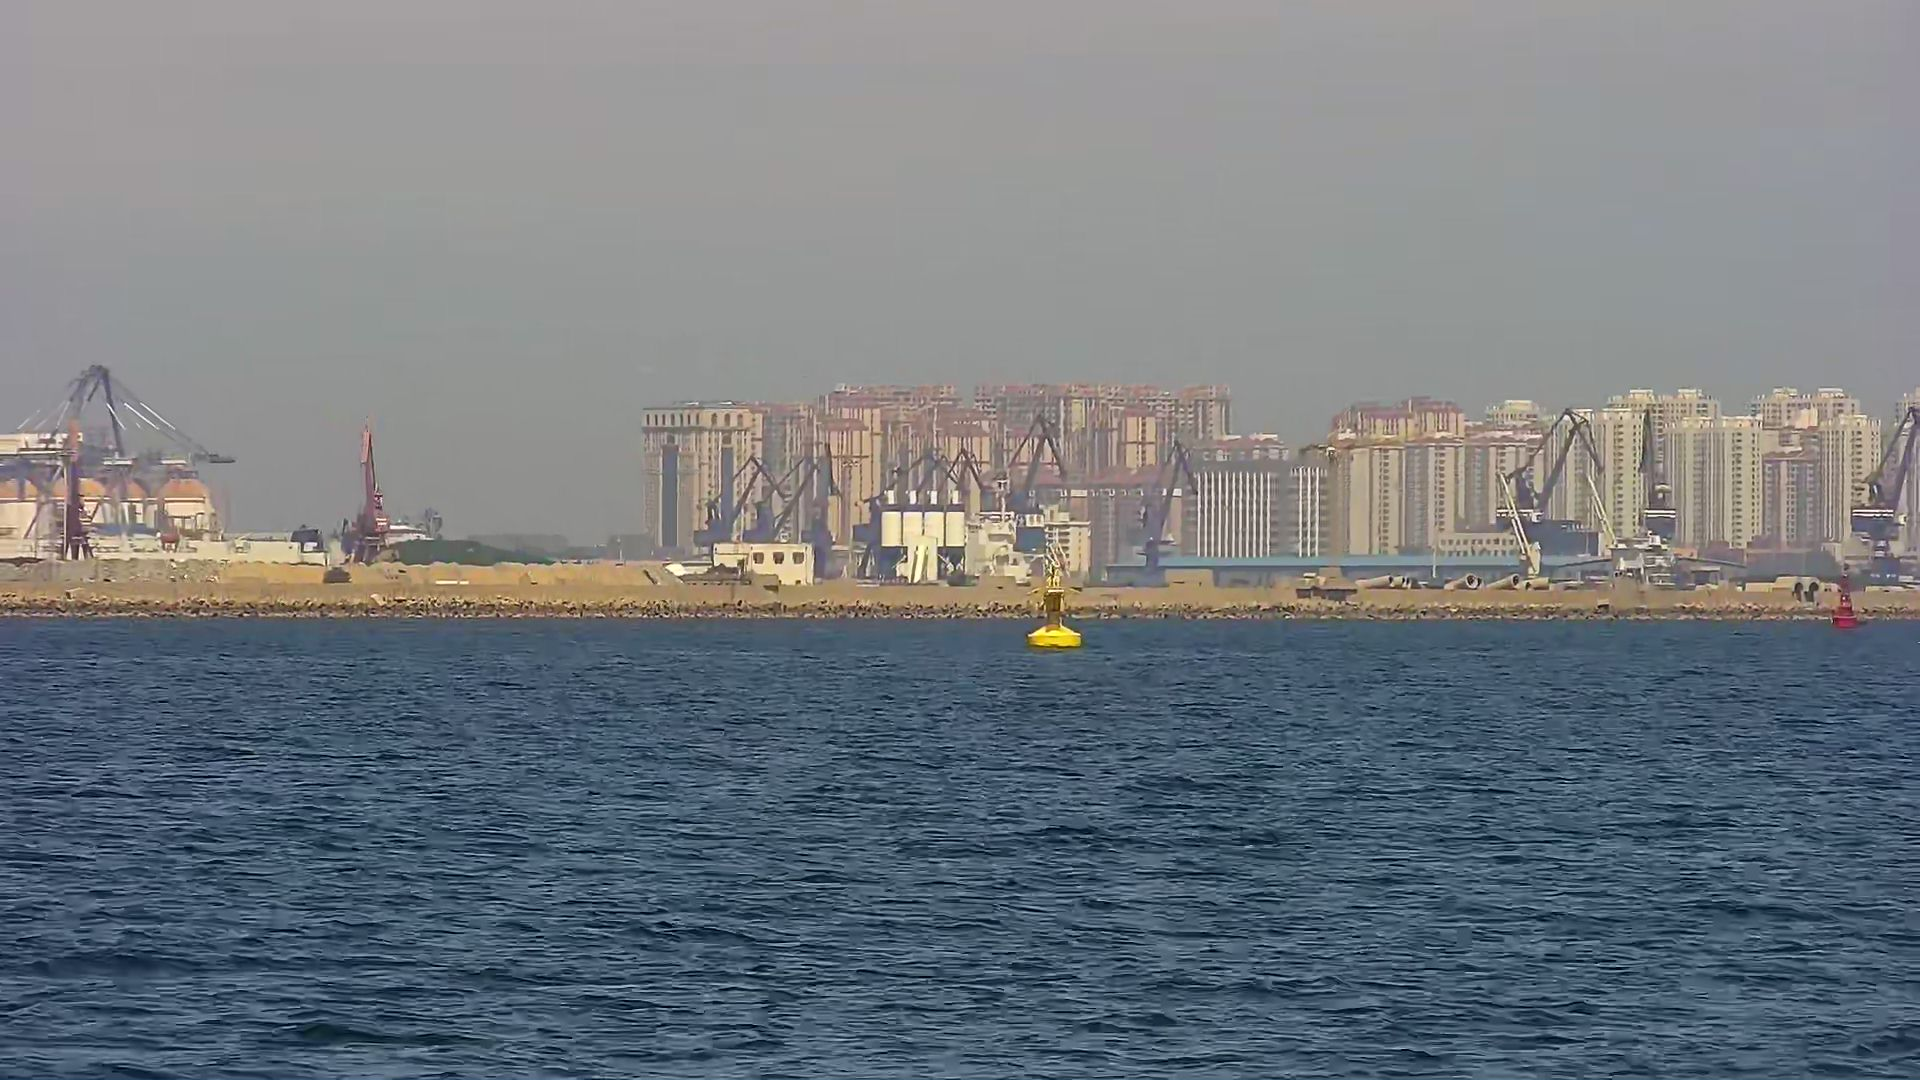buoy: (1026, 588, 1087, 650)
